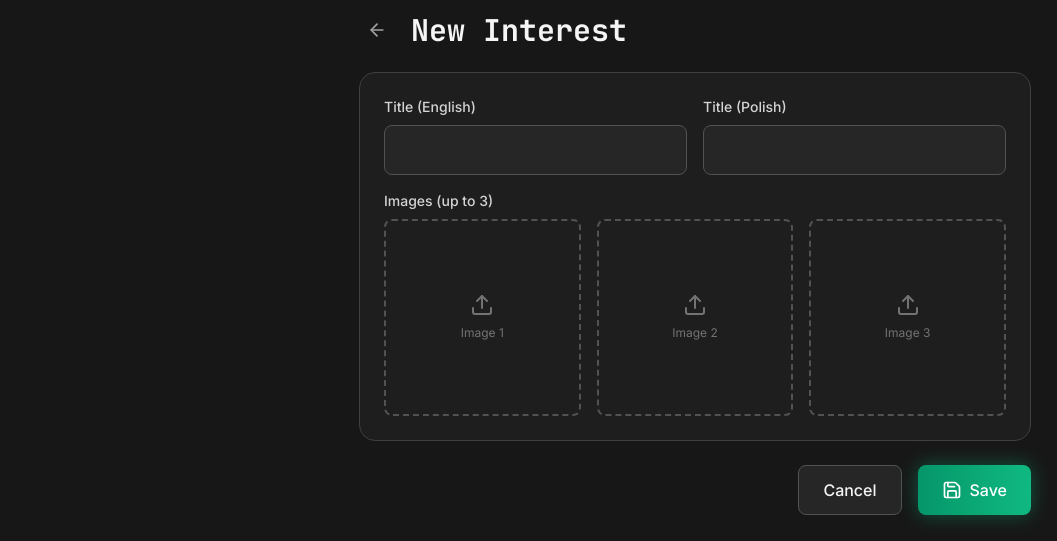
Test case: AdminInterestForm unsaved changes › leaves the edited form when the admin confirms
The width and height of the screenshot is (1057, 541).
Type "edited" into the field below "Title (English)" at (536, 150), box x1=384 y1=125 x2=687 y2=175
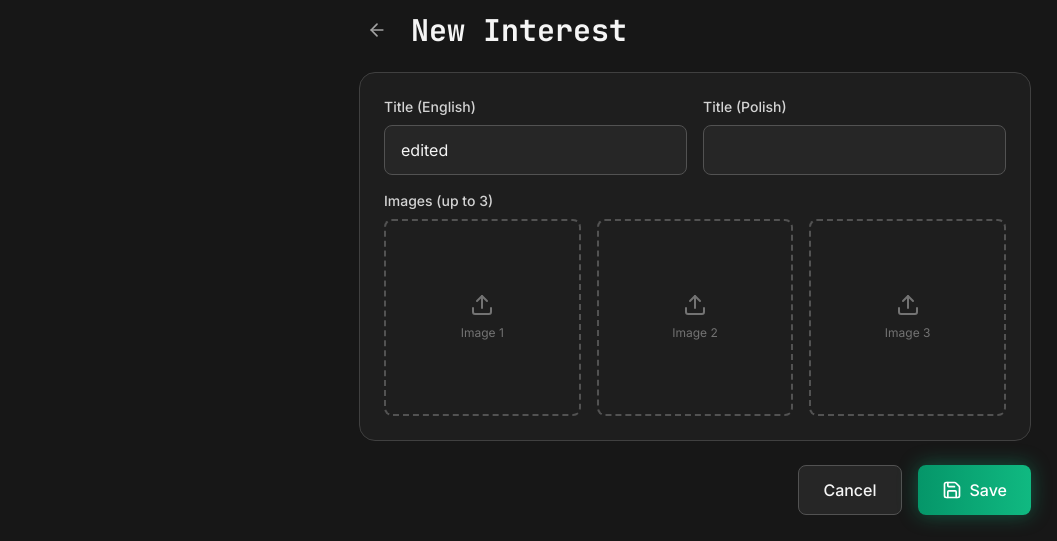
Click the button "Cancel" at (850, 490), box x1=798 y1=465 x2=902 y2=515
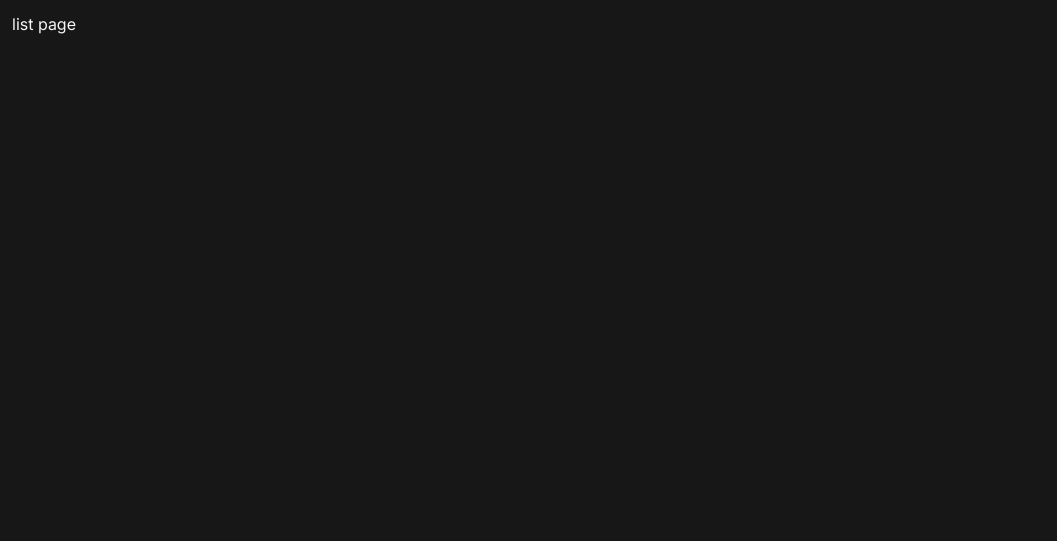
Now the text "list page" is shown, box x1=12 y1=14 x2=76 y2=34
